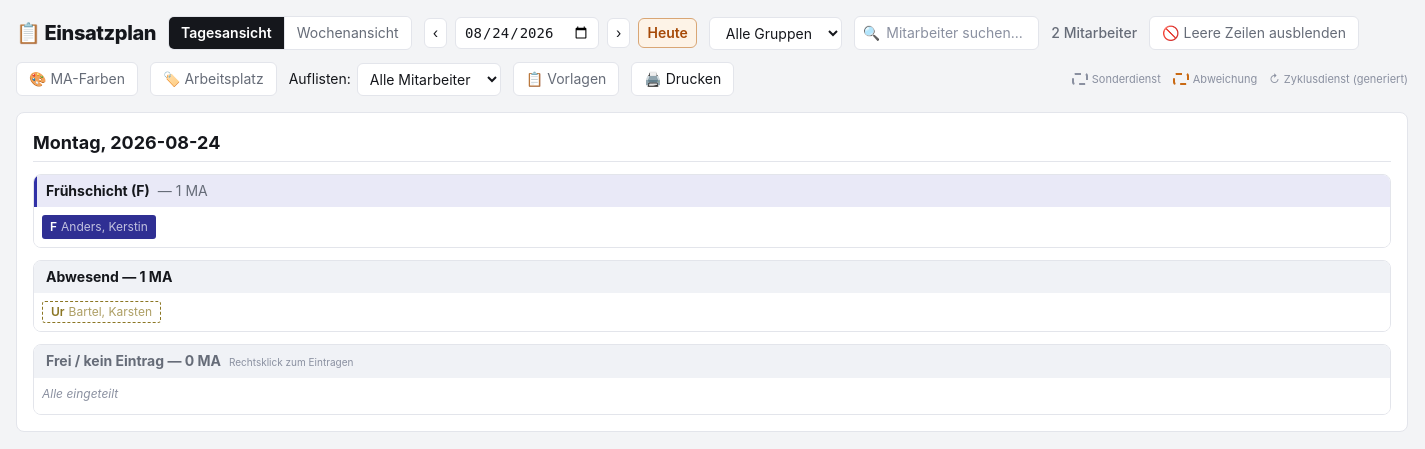
Test: Einsatzplan Wochenmatrix — Zeilen je Abwesenheitsart › zeigt die Urlaubs-Zeile mit dem abwesenden MA (Original-Layout)
Click the button "Wochenansicht".
click(347, 33)  # box [284,17,411,49]
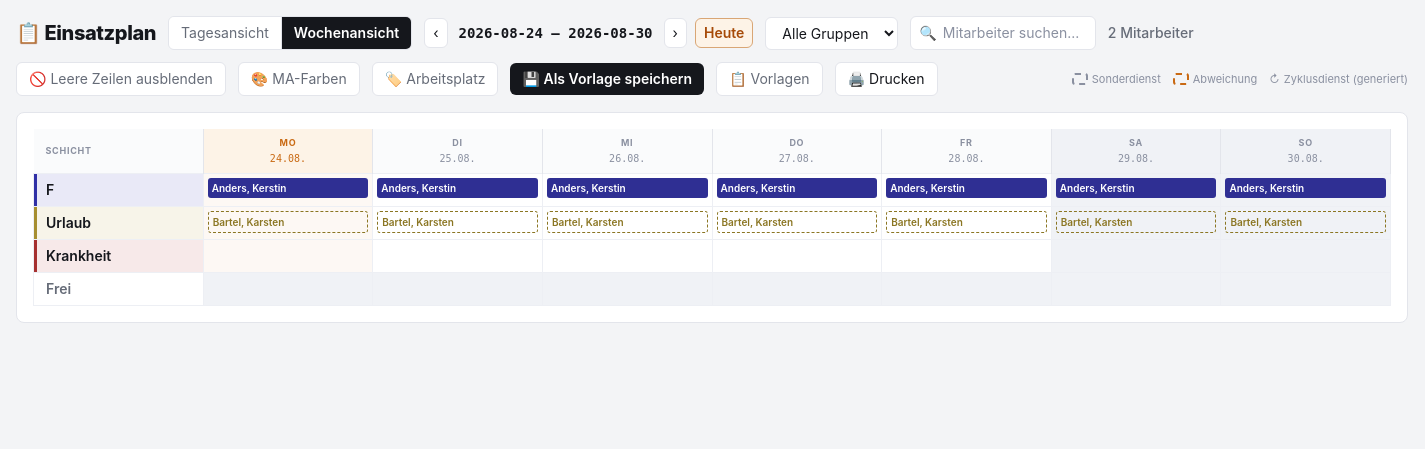
Check: the row with test id "einsatz-absence-row-10" shows "Urlaub", box [46,214,91,231]
Check: the row with test id "einsatz-absence-row-10" shows "Bartel, Karsten", box [213,216,284,228]
Check: the row with test id "einsatz-absence-row-11" reads "Krankheit", box [46,247,111,264]
